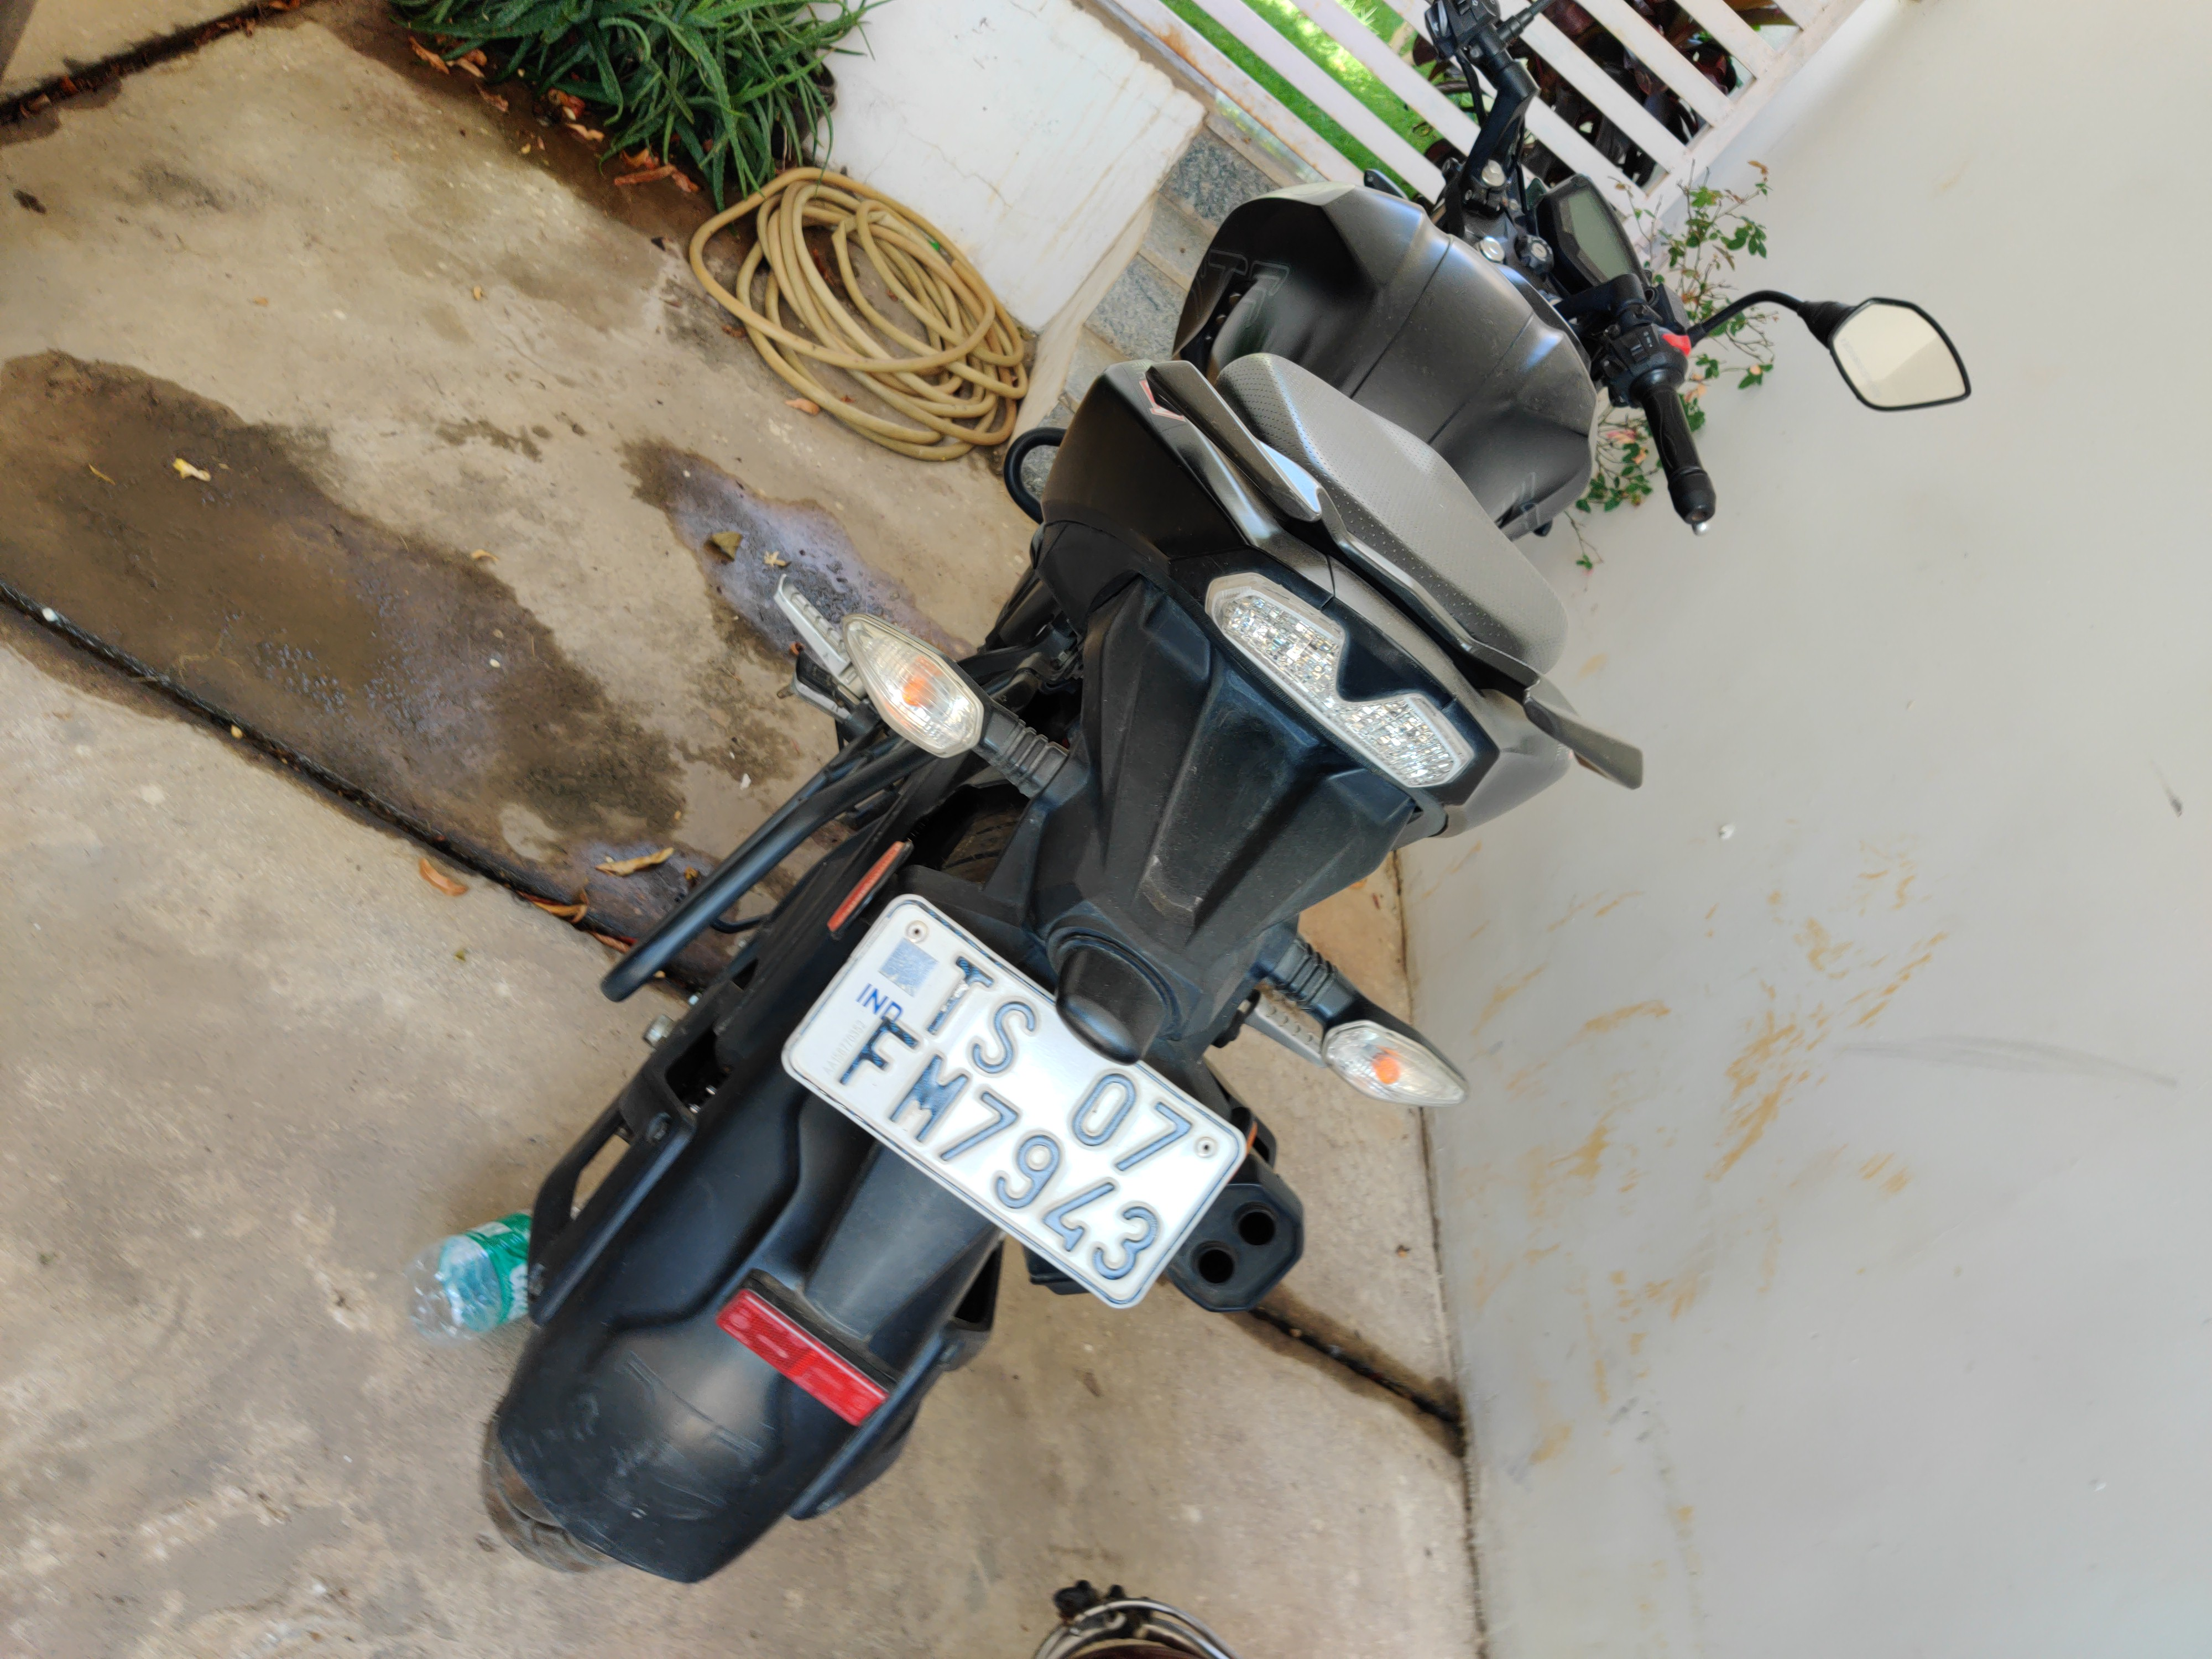plate: (742, 886, 1309, 1338)
